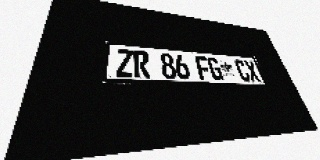6: (173, 54, 191, 79)
8: (159, 53, 177, 79)
C: (233, 59, 251, 81)
F: (194, 56, 212, 80)
G: (206, 57, 224, 81)
R: (133, 50, 150, 78)
X: (243, 60, 261, 82)
Z: (116, 49, 133, 77)
